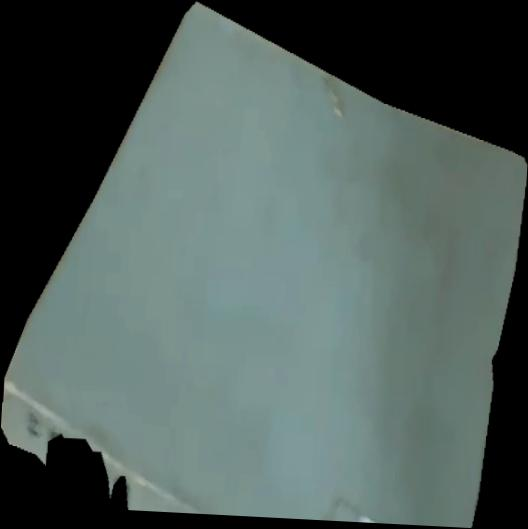flat: (1, 1, 528, 529)
